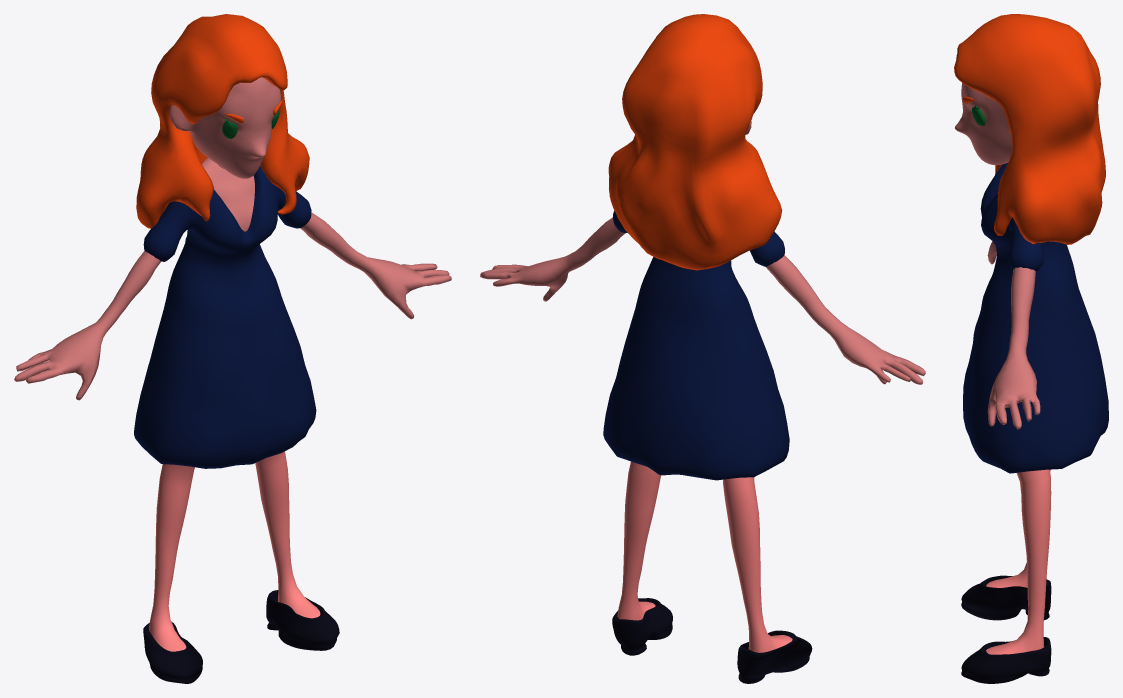
Rendered from AIDA_LOW.fbx.
3 views of the same model, side by side, from view 1: azimuth 30°, elevation 25°; view 2: azimuth 150°, elevation 25°; view 3: azimuth 270°, elevation 25° (orthographic).
Visible parts, largest first — view 1: VESTIDO_AIDA_LOW, PELO_AIDA_LOW, BRAZOS-CUELLO_AIDA_LOW, PIERNAS_AIDA_LOW, CABEZA_AIDA_LOW, ZAPATOS_AIDA_LOW, TORSO_AIDA_LOW; view 2: PELO_AIDA_LOW, VESTIDO_AIDA_LOW, PIERNAS_AIDA_LOW, BRAZOS-CUELLO_AIDA_LOW, ZAPATOS_AIDA_LOW; view 3: PELO_AIDA_LOW, VESTIDO_AIDA_LOW, PIERNAS_AIDA_LOW, ZAPATOS_AIDA_LOW, BRAZOS-CUELLO_AIDA_LOW, CABEZA_AIDA_LOW.
Part boxes in pixels (x1=…): VESTIDO_AIDA_LOW: x1=134, y1=166, x2=316, y2=468; PELO_AIDA_LOW: x1=136, y1=14, x2=309, y2=228; BRAZOS-CUELLO_AIDA_LOW: x1=14, y1=165, x2=451, y2=400; PIERNAS_AIDA_LOW: x1=149, y1=451, x2=320, y2=651; CABEZA_AIDA_LOW: x1=169, y1=77, x2=280, y2=178; ZAPATOS_AIDA_LOW: x1=143, y1=590, x2=339, y2=683; TORSO_AIDA_LOW: x1=202, y1=157, x2=254, y2=231; PELO_AIDA_LOW: x1=608, y1=14, x2=782, y2=270; VESTIDO_AIDA_LOW: x1=603, y1=210, x2=789, y2=480; PIERNAS_AIDA_LOW: x1=617, y1=461, x2=792, y2=652; BRAZOS-CUELLO_AIDA_LOW: x1=480, y1=217, x2=925, y2=384; ZAPATOS_AIDA_LOW: x1=612, y1=598, x2=812, y2=683; PELO_AIDA_LOW: x1=954, y1=14, x2=1105, y2=244; VESTIDO_AIDA_LOW: x1=963, y1=163, x2=1108, y2=473; PIERNAS_AIDA_LOW: x1=986, y1=469, x2=1051, y2=654; ZAPATOS_AIDA_LOW: x1=961, y1=575, x2=1051, y2=683; BRAZOS-CUELLO_AIDA_LOW: x1=987, y1=241, x2=1040, y2=429; CABEZA_AIDA_LOW: x1=955, y1=83, x2=1012, y2=165.
Size of the model in its own units: 1.62 by 2.23 by 0.4982.
